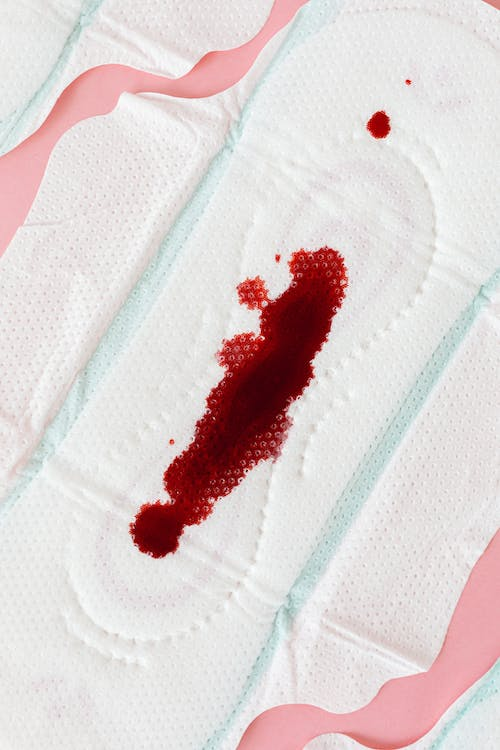blood: (124, 71, 413, 561)
